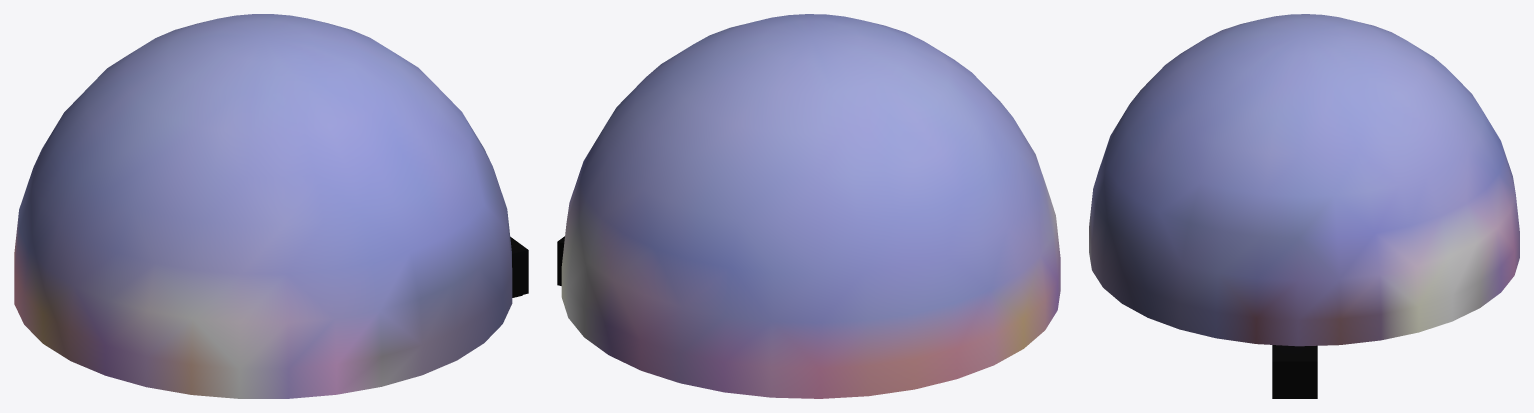
Rendered from arcvis_baked_282.glb.
The picture shows the model from 3 angles, left to right: view 1: azimuth 30°, elevation 25°; view 2: azimuth 150°, elevation 25°; view 3: azimuth 270°, elevation 25°; orthographic projection. The views are drawn at different scales.
Visible parts, largest first — view 1: Plane; view 2: Plane; view 3: Plane.
Part boxes in pixels (x1,y1,x2,y2): Plane: [14, 14, 528, 398]; Plane: [557, 14, 1060, 398]; Plane: [1089, 14, 1519, 398].
Size of the model in its own units: 21.41 by 13.47 by 20.01.
